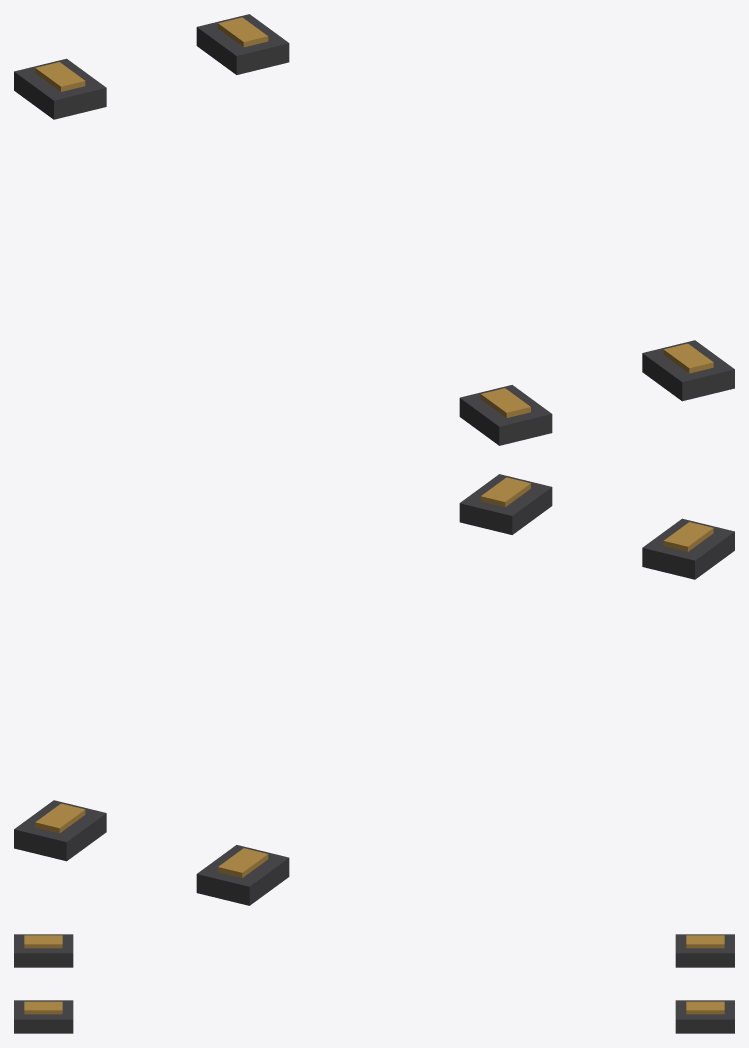
The model's file is boat20_release.obj.
3 renders of one model, top to bottom at view 1: azimuth 30°, elevation 25°; view 2: azimuth 150°, elevation 25°; view 3: azimuth 270°, elevation 25°, orthographic. The views are drawn at different scales.
Parts seen in each view (by area): view 1: boat20_release; view 2: boat20_release; view 3: boat20_release.
Part boxes in pixels (<box>): boat20_release: <box>14,14,734,445</box>; boat20_release: <box>14,474,734,905</box>; boat20_release: <box>14,934,734,1033</box>.
Size of the model in its own units: 1.16 by 0.115 by 4.14.
